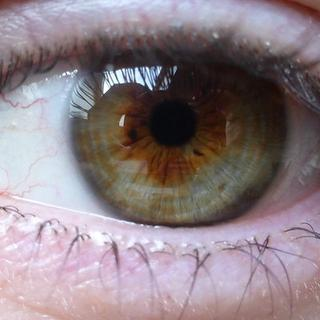pupil: (146, 96, 197, 147)
